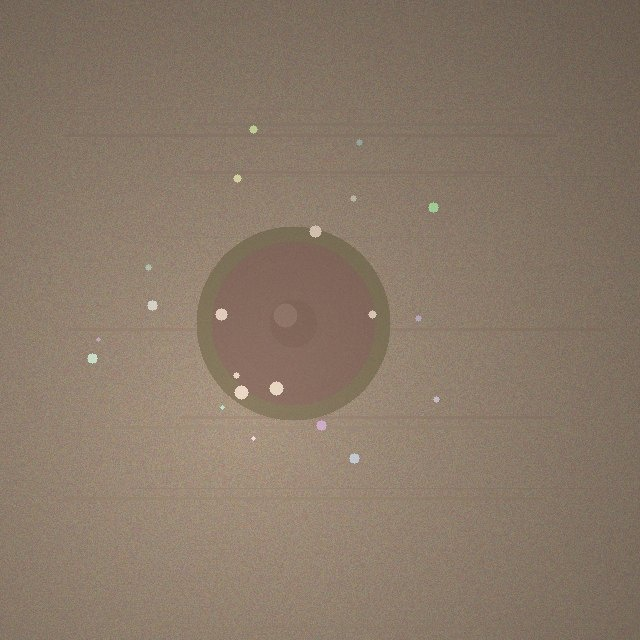overburn: (196, 226, 390, 420)
